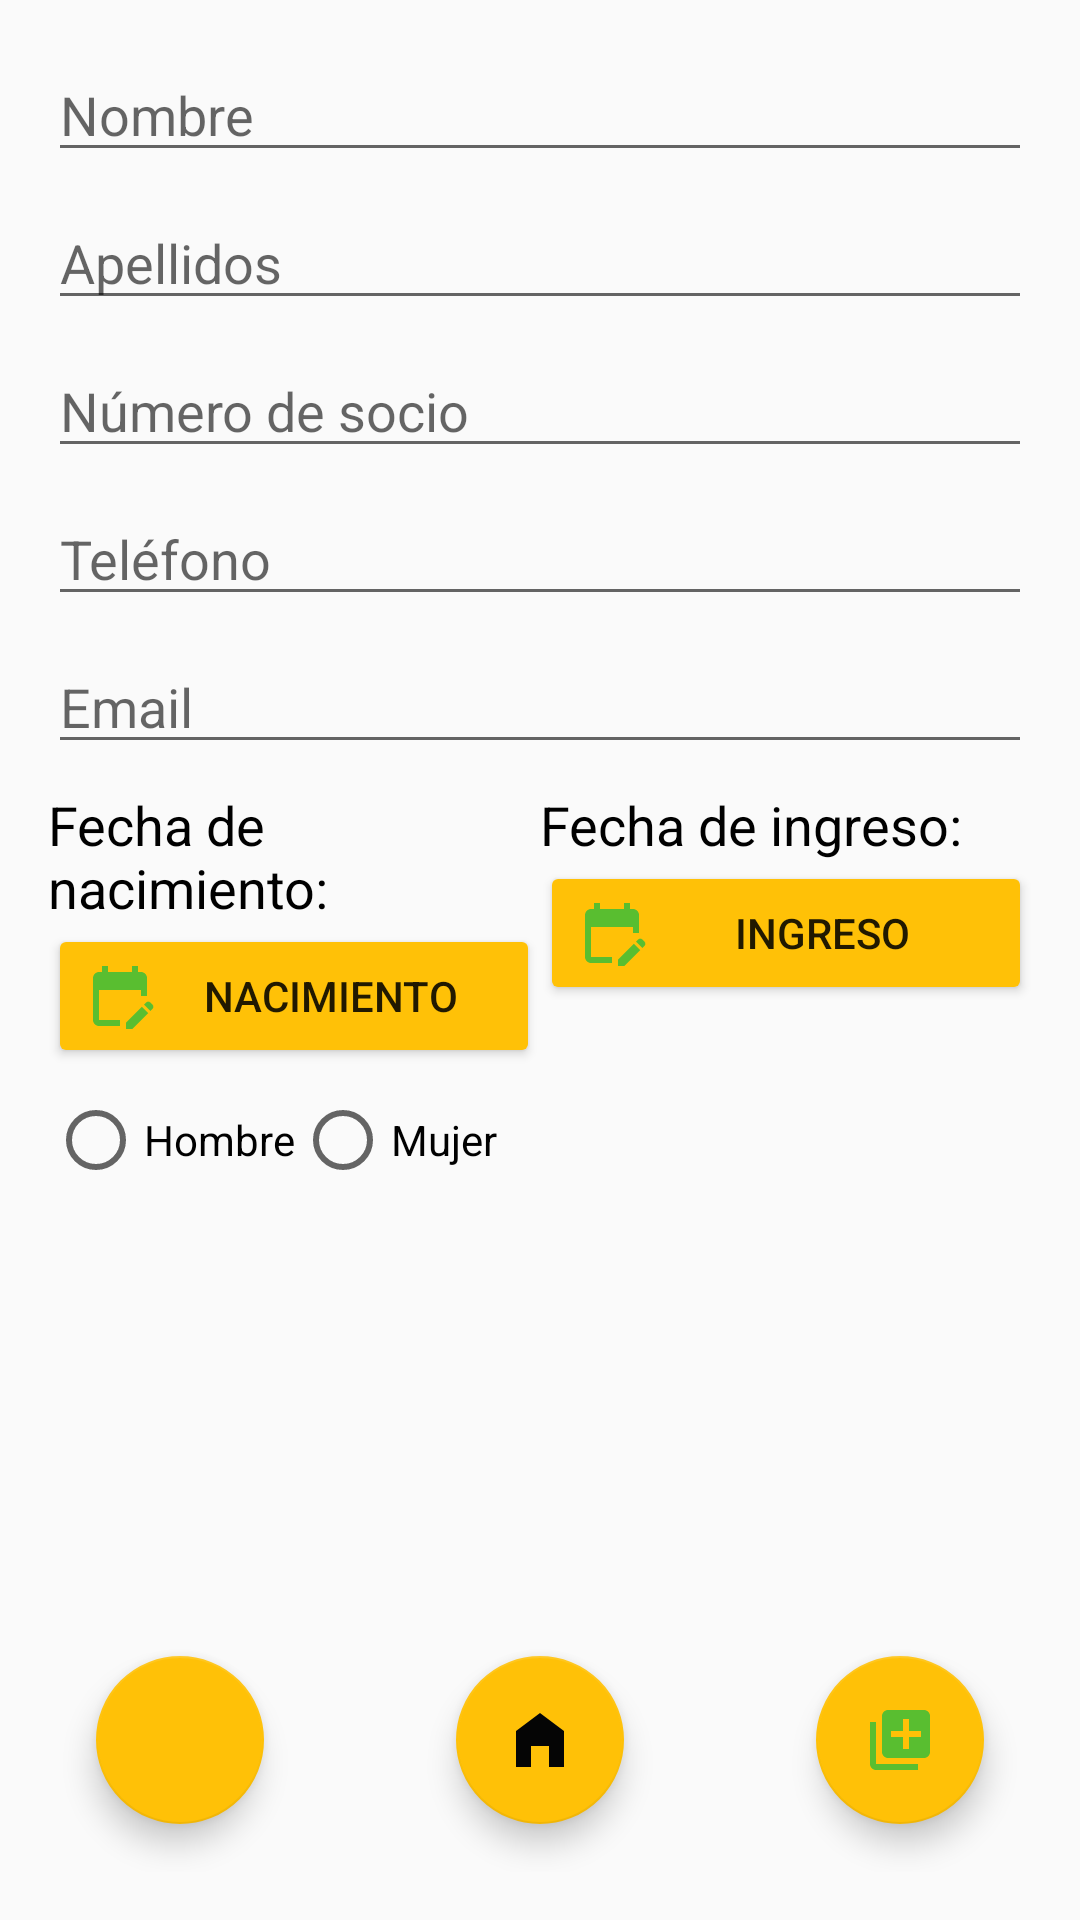

Icons on this 1080*1920 Android screen, each with the point to tap as (x=x, y=y):
home: (x=540, y=1740)
